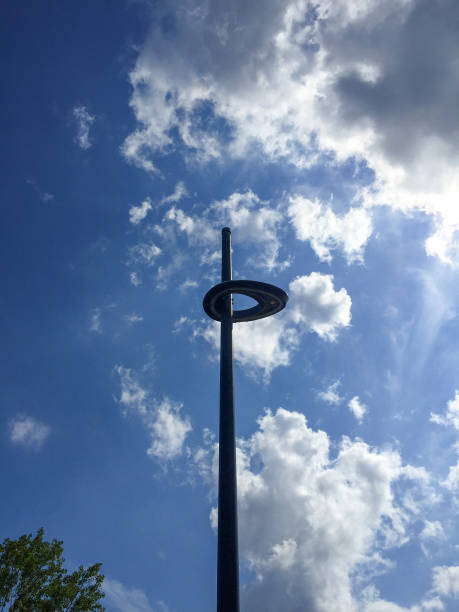light_pole: (218, 233, 244, 611)
